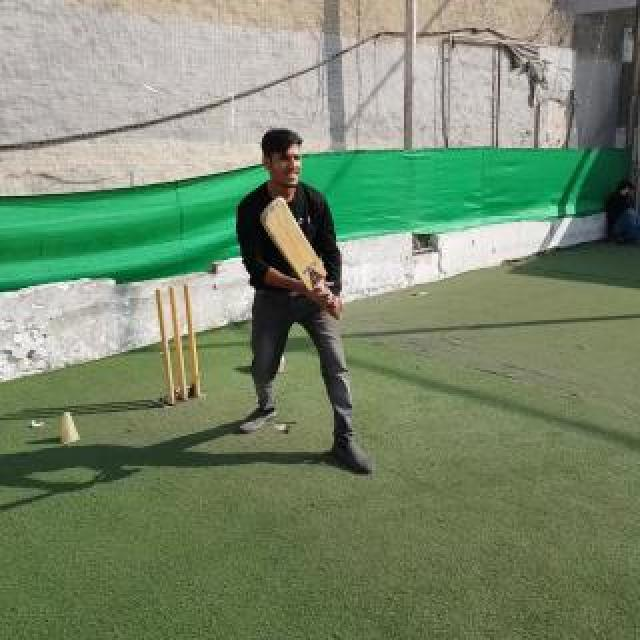bat: (260, 196, 342, 320)
